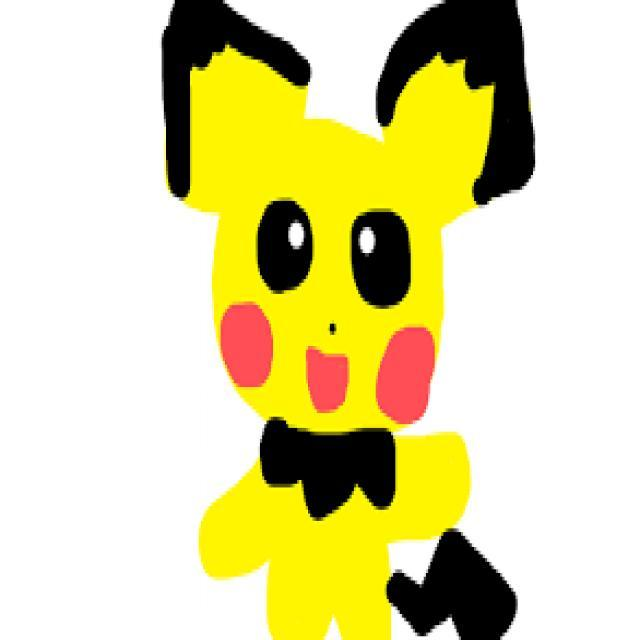pichu: (146, 0, 537, 640)
